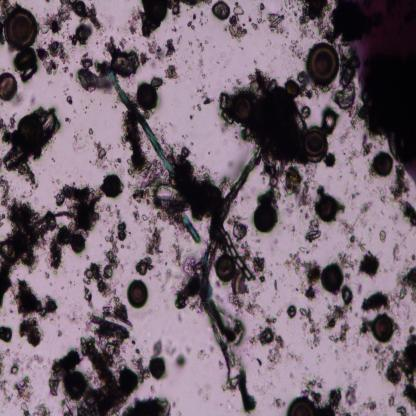Background material: (215, 66, 313, 168), (51, 312, 142, 416), (0, 198, 57, 310), (0, 107, 60, 190), (208, 319, 258, 413), (81, 208, 128, 306), (174, 152, 224, 243), (366, 334, 416, 413), (76, 34, 139, 92), (52, 184, 106, 233), (171, 238, 202, 314), (285, 0, 341, 41), (284, 247, 321, 300), (329, 342, 374, 382), (12, 278, 56, 318), (389, 162, 416, 227), (322, 288, 352, 344), (283, 165, 315, 215), (252, 325, 285, 367), (38, 0, 75, 36), (126, 172, 158, 209), (48, 224, 72, 270), (297, 307, 321, 352), (37, 41, 69, 74), (241, 240, 266, 282), (121, 395, 175, 414), (339, 207, 365, 246), (17, 314, 44, 349), (12, 48, 38, 84), (256, 170, 282, 204), (344, 148, 360, 201), (354, 248, 382, 278), (356, 289, 392, 312), (241, 302, 277, 325), (13, 374, 33, 415), (142, 224, 166, 258), (394, 267, 416, 304), (227, 3, 248, 41), (300, 370, 324, 402), (318, 385, 342, 416), (0, 352, 13, 406), (90, 142, 112, 173), (124, 10, 148, 38), (83, 2, 102, 30), (68, 25, 93, 46), (279, 221, 306, 240), (227, 216, 248, 240), (354, 394, 378, 415), (334, 250, 356, 272), (18, 352, 42, 372), (259, 371, 276, 399), (195, 35, 205, 79), (147, 39, 164, 63), (0, 1, 9, 46), (287, 40, 306, 61), (134, 256, 156, 274), (156, 266, 173, 289), (172, 351, 190, 372), (196, 84, 214, 105), (0, 175, 10, 210), (343, 384, 358, 407), (360, 132, 374, 156), (269, 396, 287, 414), (72, 130, 87, 151), (0, 323, 13, 345), (32, 401, 51, 415), (131, 208, 150, 222), (358, 317, 372, 336), (164, 64, 179, 81), (164, 39, 177, 58), (247, 14, 262, 30), (137, 51, 152, 67), (167, 0, 181, 17), (181, 0, 212, 7), (183, 33, 195, 51), (151, 340, 163, 358), (10, 355, 20, 376), (287, 302, 298, 320), (198, 348, 209, 363), (272, 278, 280, 298), (377, 229, 387, 243), (396, 405, 408, 415), (186, 20, 196, 32), (62, 114, 72, 124), (387, 396, 396, 407), (66, 95, 74, 105), (258, 1, 265, 12), (88, 126, 94, 138), (190, 110, 194, 124), (193, 12, 197, 21)
Diatom: (222, 228, 253, 280), (308, 41, 340, 86), (5, 8, 37, 52), (19, 114, 44, 152), (155, 187, 189, 214), (320, 262, 343, 294), (306, 126, 328, 158), (253, 204, 277, 232), (128, 278, 148, 309), (372, 314, 394, 342), (317, 195, 338, 224), (285, 396, 317, 415), (215, 254, 235, 284), (136, 84, 158, 110), (67, 371, 87, 399), (0, 72, 18, 102), (321, 106, 339, 136), (289, 108, 308, 136), (231, 94, 252, 119), (231, 271, 252, 296), (146, 0, 167, 24), (103, 174, 122, 200), (374, 153, 394, 177), (212, 1, 230, 21), (150, 358, 166, 378), (71, 232, 85, 253), (390, 244, 404, 263), (270, 14, 284, 30), (324, 151, 335, 167), (75, 1, 86, 16), (300, 104, 311, 119), (305, 231, 322, 240)
Natural material: (110, 72, 174, 175), (198, 255, 224, 332), (180, 212, 200, 242)
Pen: (337, 0, 416, 182)
